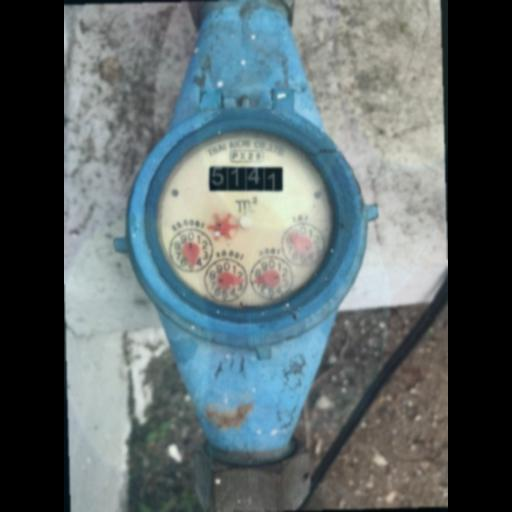1: (265, 168, 284, 191), (229, 167, 246, 191)
4: (247, 168, 263, 191)
5: (210, 167, 228, 191)
border_water_meter_number: (209, 166, 284, 192)
